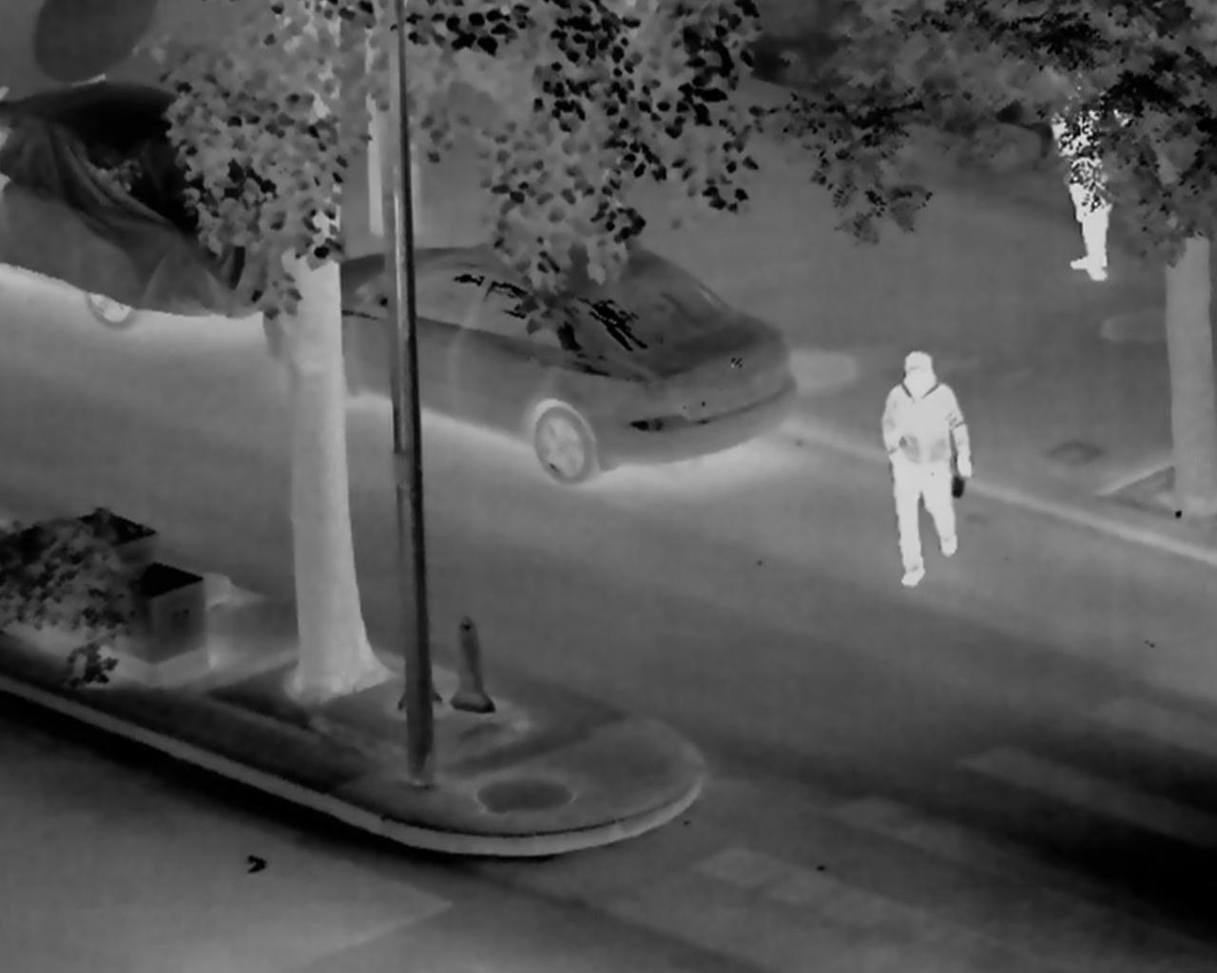person: (883, 351, 968, 586), (1049, 70, 1131, 280)
